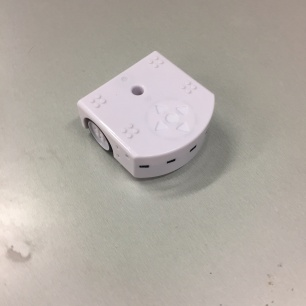thymio: (69, 48, 220, 183)
